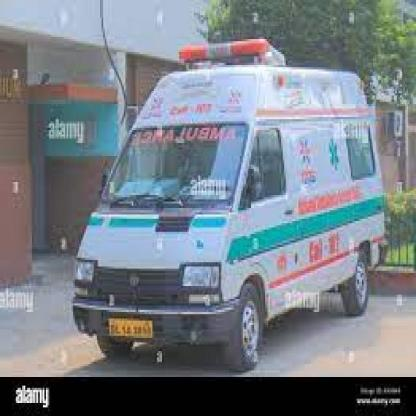priority: (72, 39, 388, 373)
